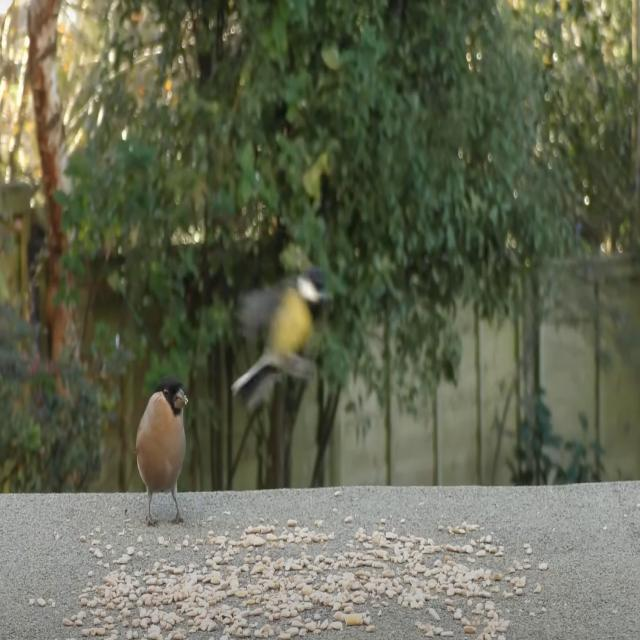beak: (174, 386, 188, 412)
bird: (233, 266, 329, 405), (135, 380, 192, 526)
